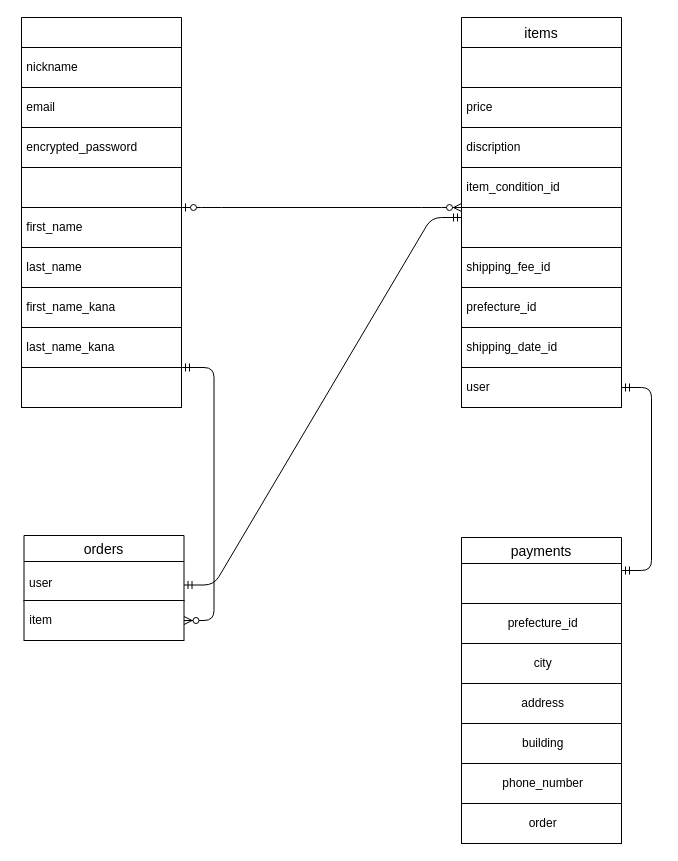
The diagram is 678 pixels wide and 861 high, and some of its shapes have lost their labels. The centre of each missing label's shape, as x and y in pixels:
"category_id" belongs at [541,227].
"date_of_birth" belongs at [101,387].
"introduction" belongs at [101,187].
"name" belongs at [541,67].
"post_code" belongs at [541,583].
"users" belongs at [101,32].
